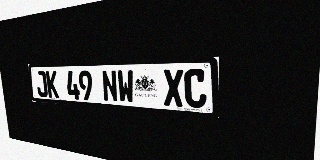4: (65, 71, 80, 100)
9: (78, 70, 93, 101)
C: (184, 69, 207, 108)
J: (35, 71, 48, 97)
K: (45, 71, 59, 98)
N: (101, 70, 118, 102)
W: (117, 70, 135, 103)
X: (163, 69, 184, 107)
